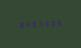eight: (53, 19, 58, 27), (17, 21, 22, 28)
four: (23, 20, 28, 28)
seven: (35, 20, 40, 27)
three: (41, 19, 46, 27)
zero: (29, 20, 34, 28), (47, 19, 52, 27)
